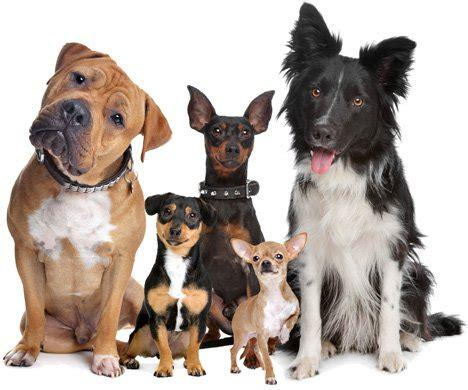dog: (287, 4, 460, 378), (4, 46, 171, 377), (186, 85, 275, 303), (119, 194, 212, 377), (230, 233, 305, 384)
